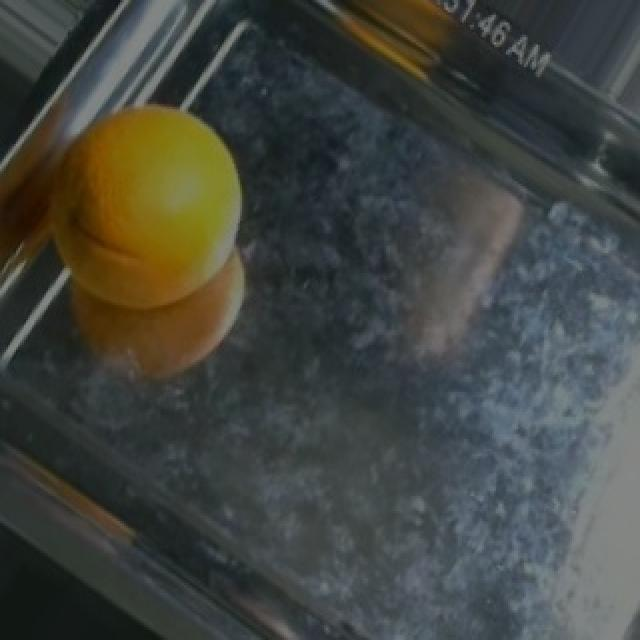Fruit: (24, 97, 268, 402)
